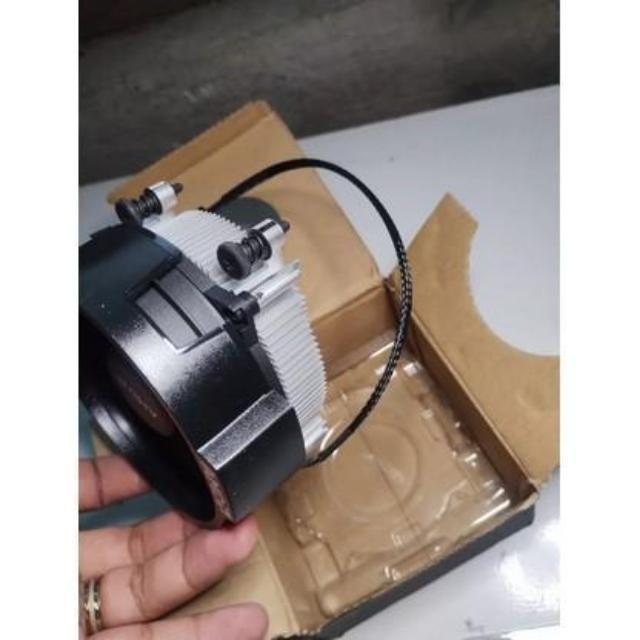CPU_Fan: (71, 180, 326, 538)
